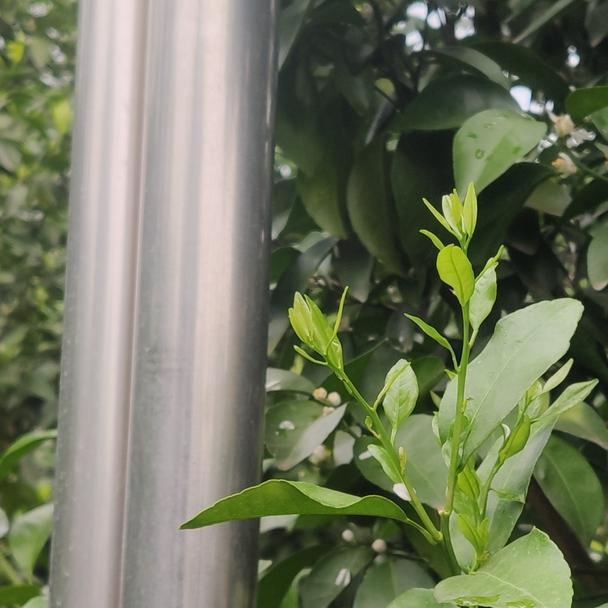shoot: (286, 297, 424, 472), (428, 191, 496, 393), (482, 371, 594, 492)
